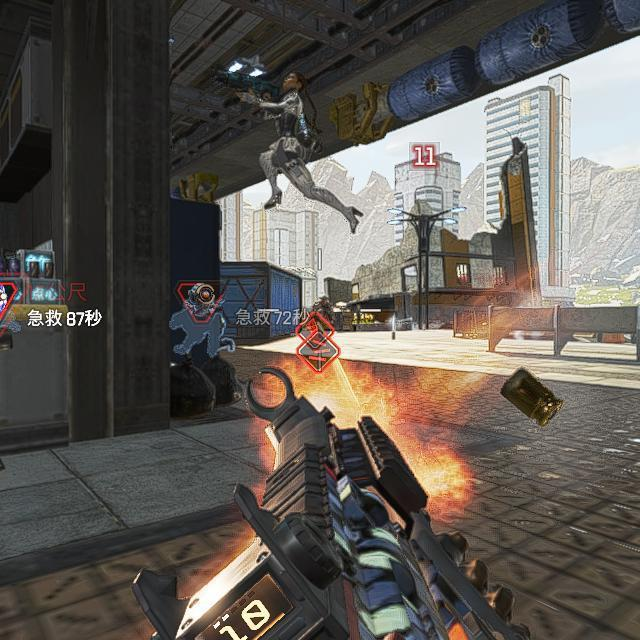avatar: (258, 69, 323, 209)
